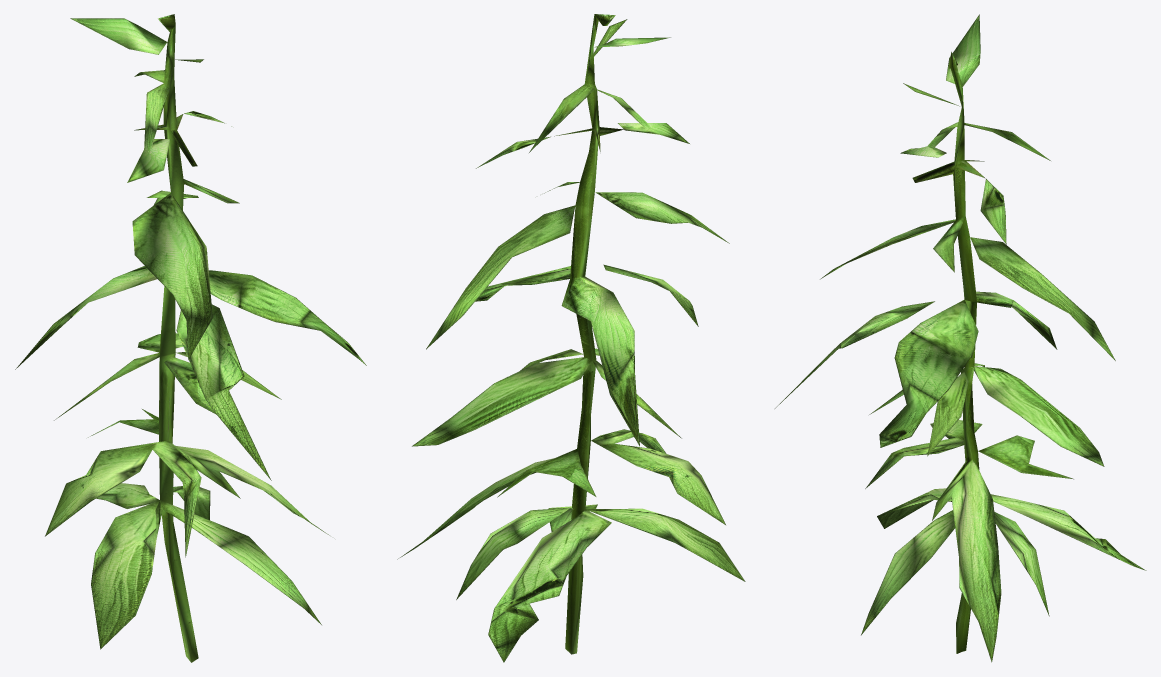
The model's file is nettle_2.glb.
3 views of the same model, side by side, from view 1: azimuth 30°, elevation 25°; view 2: azimuth 150°, elevation 25°; view 3: azimuth 270°, elevation 25° (orthographic). The views are drawn at different scales.
Visible parts, largest first — view 1: Mesh_0; view 2: Mesh_0; view 3: Mesh_0.
Part boxes in pixels (left/top/right/bottom): Mesh_0: left=15, top=14, right=366, bottom=662; Mesh_0: left=397, top=14, right=745, bottom=662; Mesh_0: left=775, top=14, right=1146, bottom=662.
Bounding box in the file's own units: 0.9294 × 1.88 × 1.07.
1 material, 1 textured.
